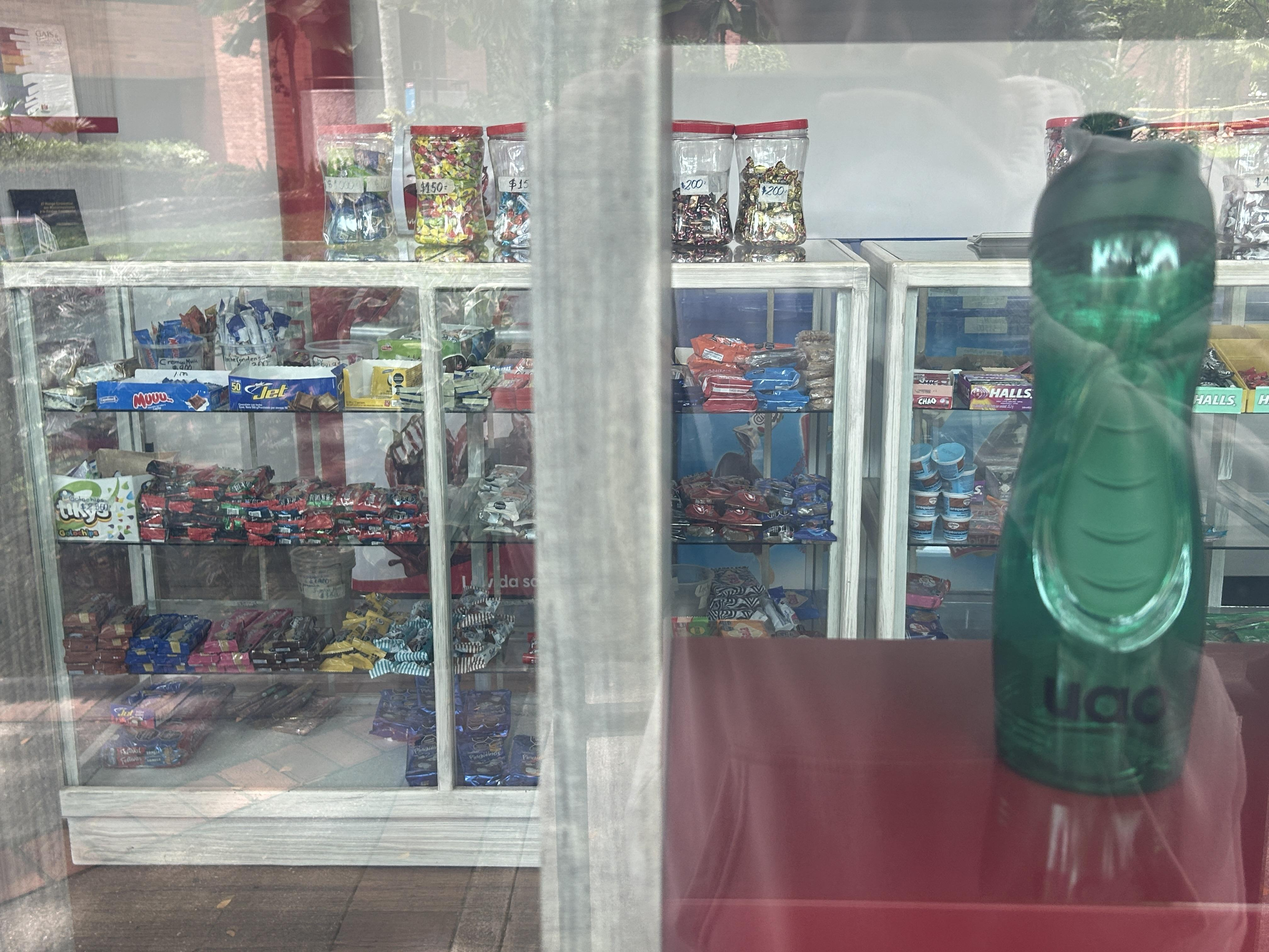termo: (992, 113, 1216, 795)
